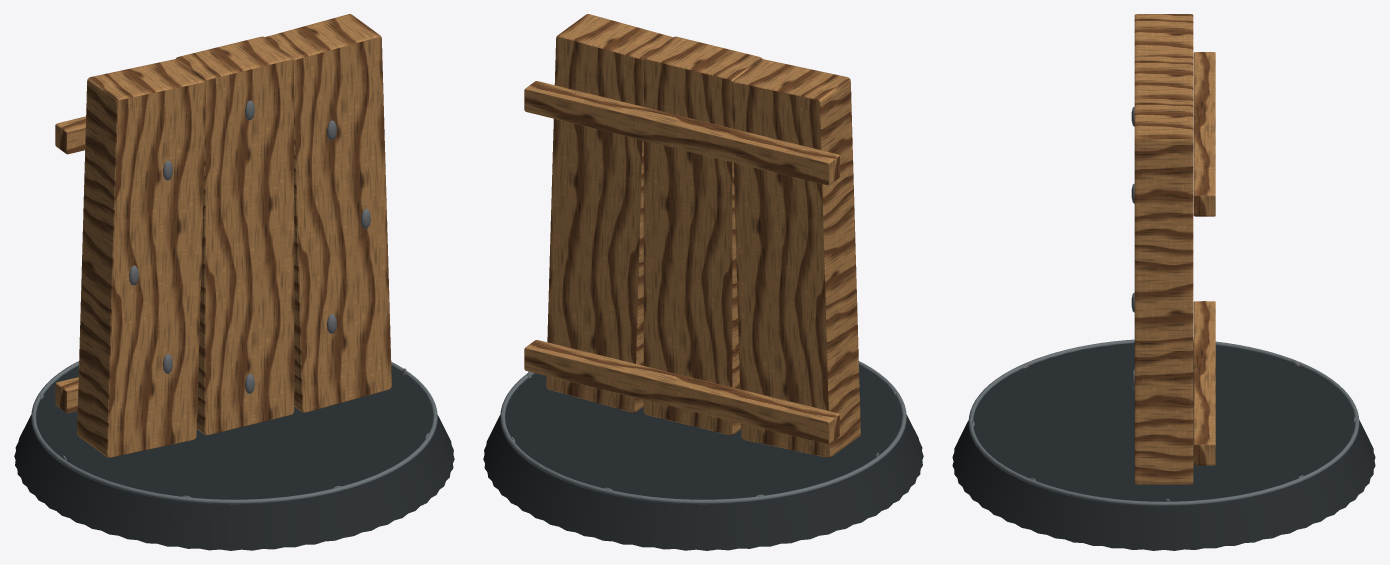
3 renders of one model, left to right at view 1: azimuth 30°, elevation 25°; view 2: azimuth 150°, elevation 25°; view 3: azimuth 270°, elevation 25°, orthographic. The views are drawn at different scales.
Visible parts, largest first — view 1: surface specimen, neutral specimen stand, specimen edge, turned rim; view 2: surface specimen, neutral specimen stand, specimen edge; view 3: neutral specimen stand, surface specimen, specimen edge.
Part boxes in pixels (x1,y1,x2,y2): surface specimen: [55, 14, 391, 457]; neutral specimen stand: [14, 366, 454, 550]; specimen edge: [31, 361, 437, 504]; turned rim: [129, 100, 370, 393]; surface specimen: [524, 14, 860, 457]; neutral specimen stand: [483, 366, 923, 550]; specimen edge: [500, 361, 906, 504]; neutral specimen stand: [952, 343, 1375, 550]; surface specimen: [1134, 14, 1215, 484]; specimen edge: [968, 339, 1359, 506].
Size of the model in its own units: 0.539 by 0.5433 by 0.539.
4 materials, 1 textured.
